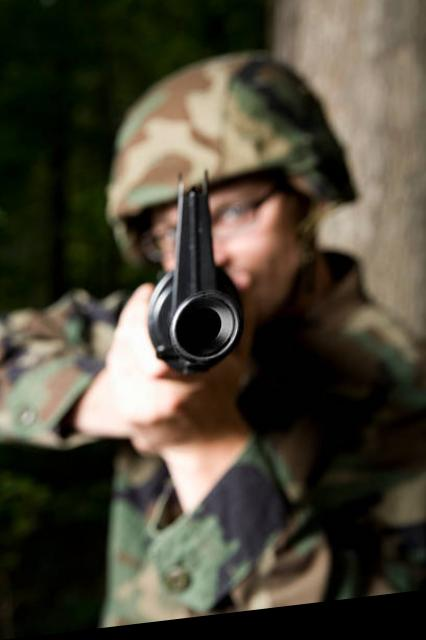other: (0, 51, 410, 638)
